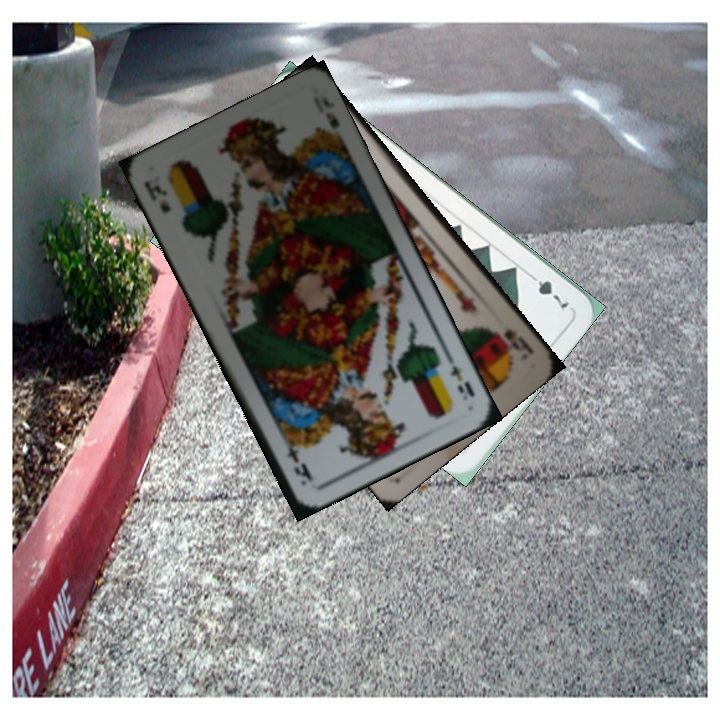EK: (442, 350, 478, 403), (140, 175, 173, 216)
G7: (523, 268, 572, 314)
SK: (491, 325, 537, 357)
